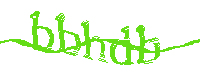b: (31, 11, 54, 53), (137, 23, 160, 65), (57, 13, 80, 55)
d: (110, 22, 133, 68)
h: (82, 17, 109, 64)
